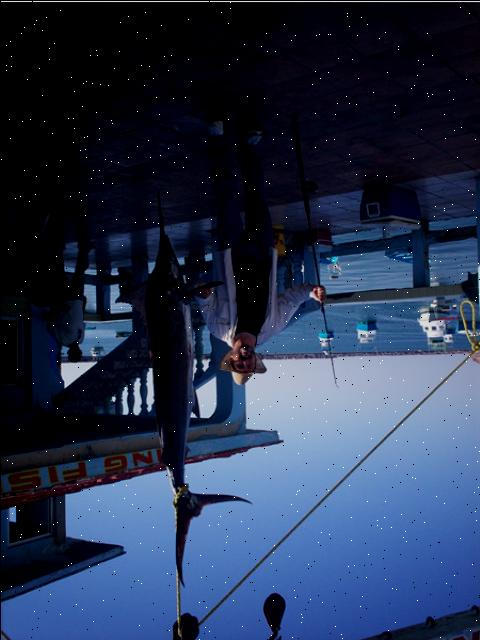Mulut: (138, 166, 186, 272)
Sirip Anal: (154, 438, 196, 470)
Sirip Ekor: (162, 474, 262, 592)
Sirip Perut: (184, 382, 208, 428)
Sirip Punggung: (108, 271, 164, 379)
